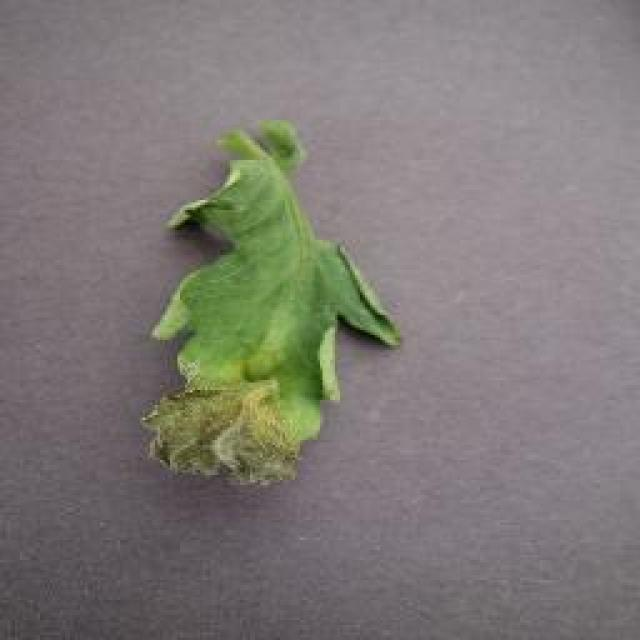Tomato Late Blight: (135, 347, 352, 513)
